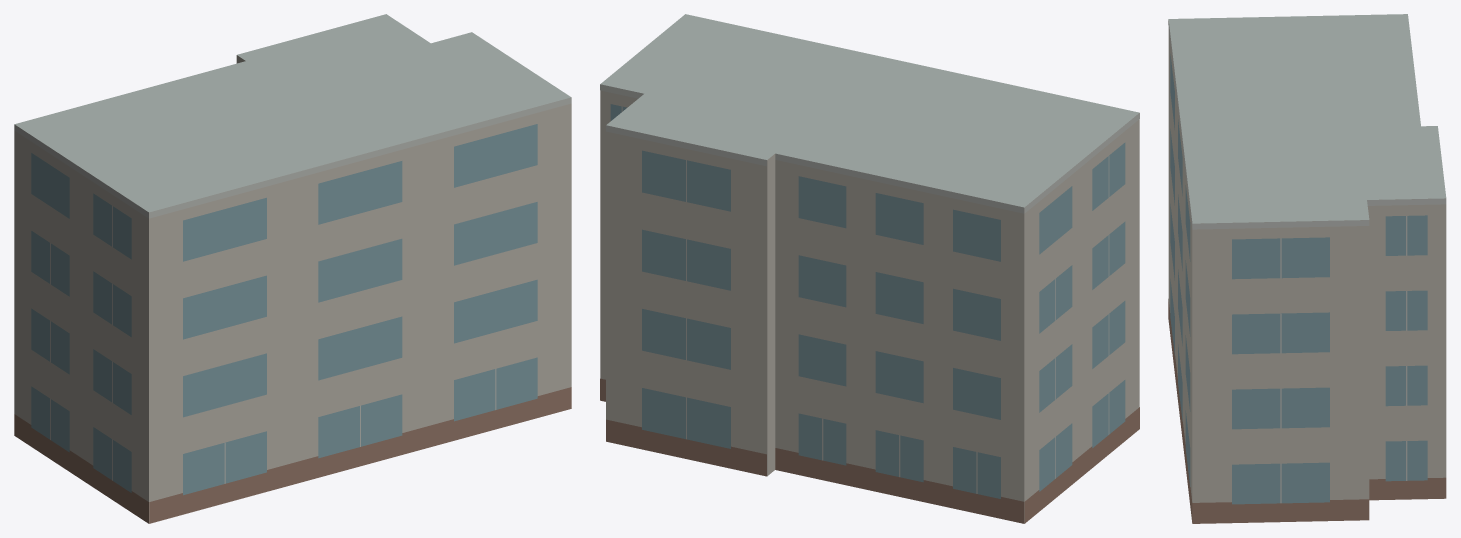
The model's file is survey-upis-32657711.glb.
The picture shows the model from 3 angles, left to right: view 1: azimuth 30°, elevation 25°; view 2: azimuth 150°, elevation 25°; view 3: azimuth 270°, elevation 25°; orthographic projection. The views are drawn at different scales.
Visible parts, largest first — view 1: survey-upis-32657711.tmp; view 2: survey-upis-32657711.tmp; view 3: survey-upis-32657711.tmp.
Boxes of the visible parts, x1,y1,x2,y2 form: survey-upis-32657711.tmp: [14, 14, 571, 523]; survey-upis-32657711.tmp: [600, 14, 1139, 523]; survey-upis-32657711.tmp: [1168, 14, 1446, 523].
Bounding box in the file's own units: 18.43 × 12.3 × 10.32.
